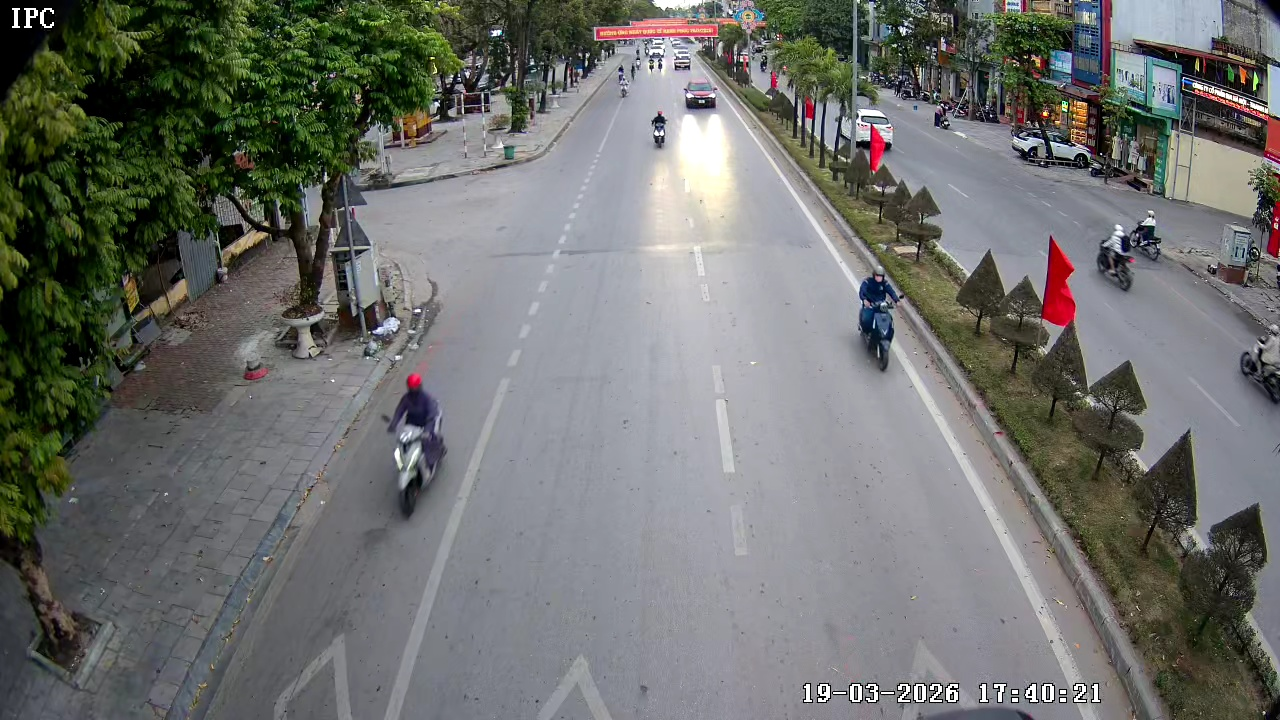car: (683, 77, 716, 113), (673, 52, 693, 73)
motorbike: (385, 373, 447, 519), (854, 268, 905, 371), (1096, 220, 1138, 293), (1130, 209, 1163, 262), (650, 109, 671, 151), (617, 77, 632, 100)
